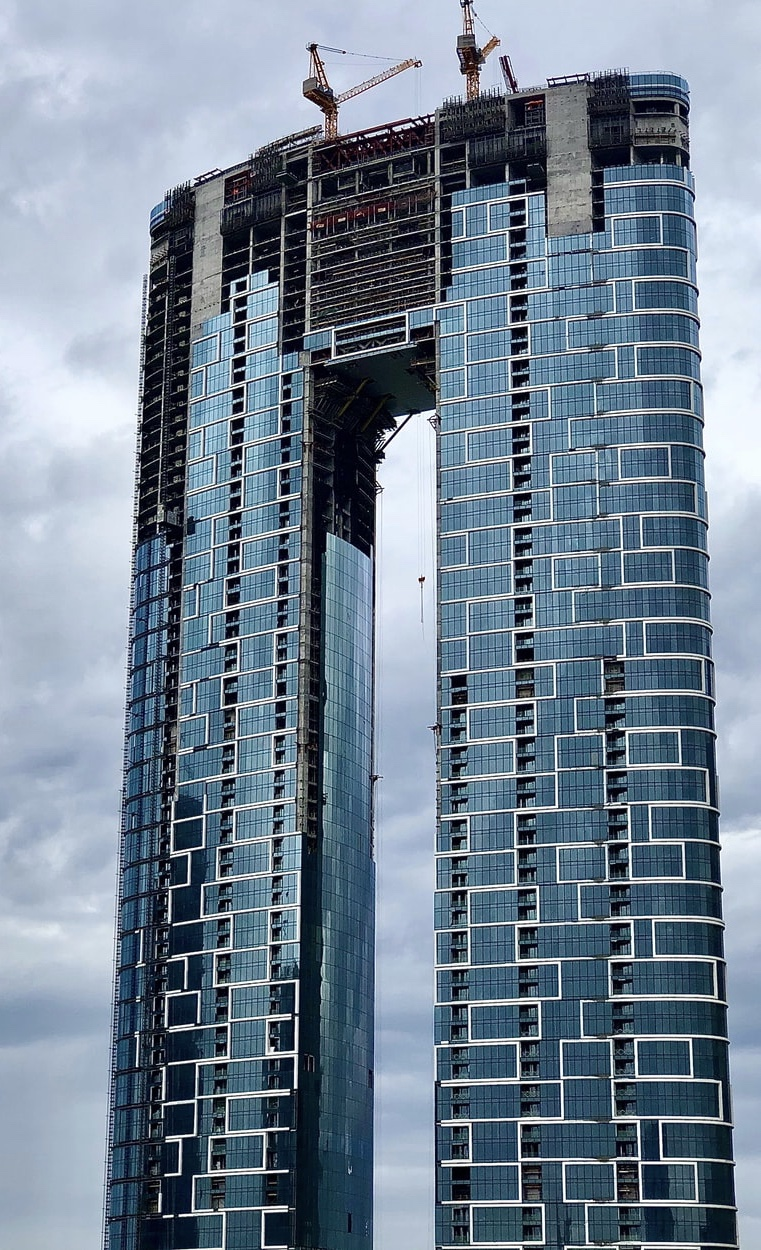Sky Building: (112, 64, 738, 1230)
